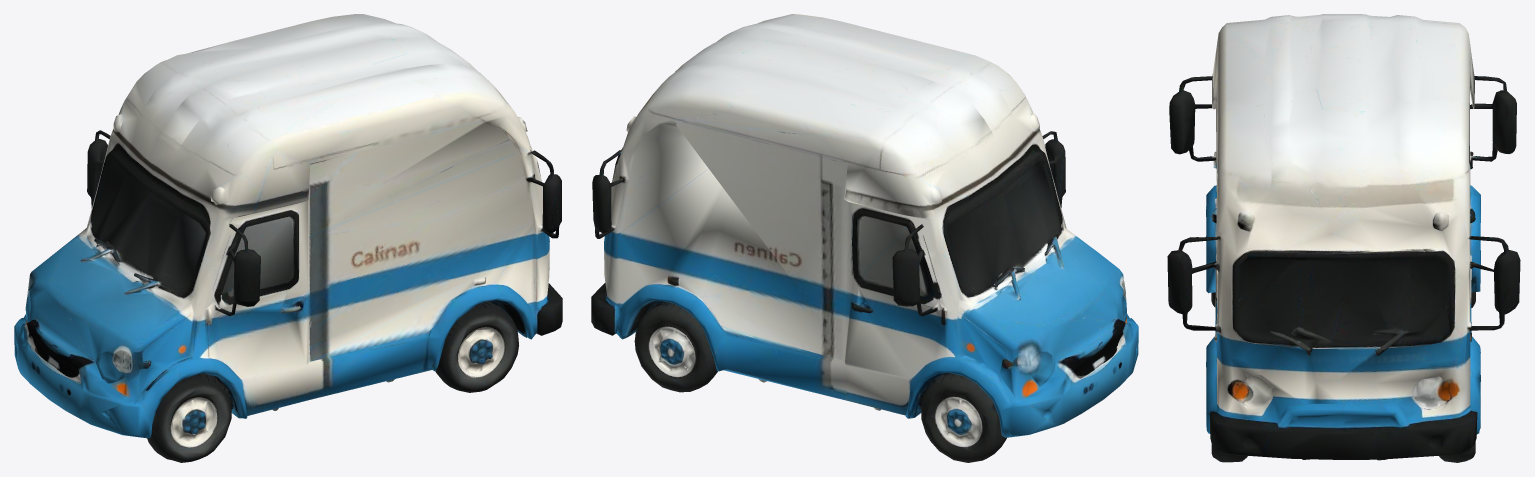
The model's file is g_truck.glb.
The picture shows the model from 3 angles, left to right: view 1: azimuth 30°, elevation 25°; view 2: azimuth 150°, elevation 25°; view 3: azimuth 270°, elevation 25°; orthographic projection. The views are drawn at different scales.
Bounding box in the file's own units: 1.91 × 1.21 × 1.14.
Materials: 1 (1 with a texture image).
